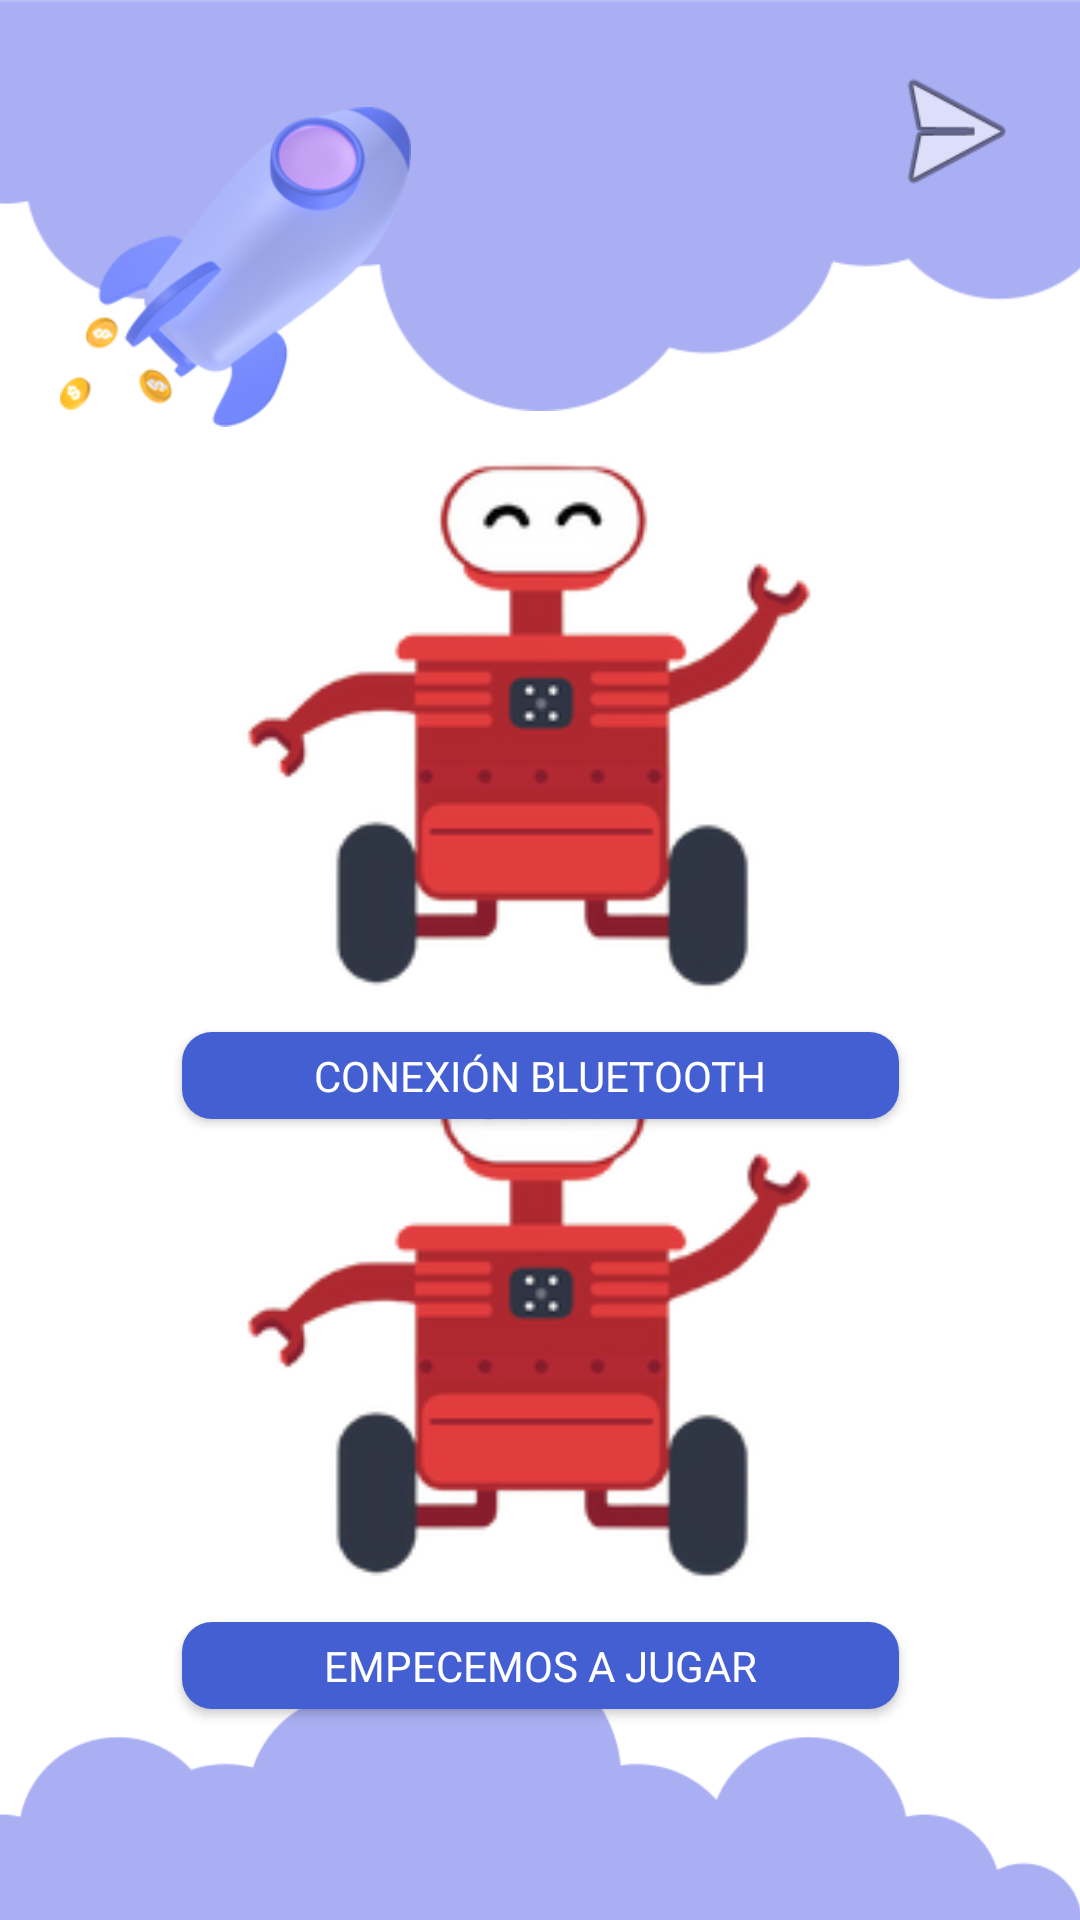

Screen size 1080px x 1920px. Icon name, then its center in pixels as (x=x, y=y):
nave: (x=235, y=267)
send: (x=957, y=131)
